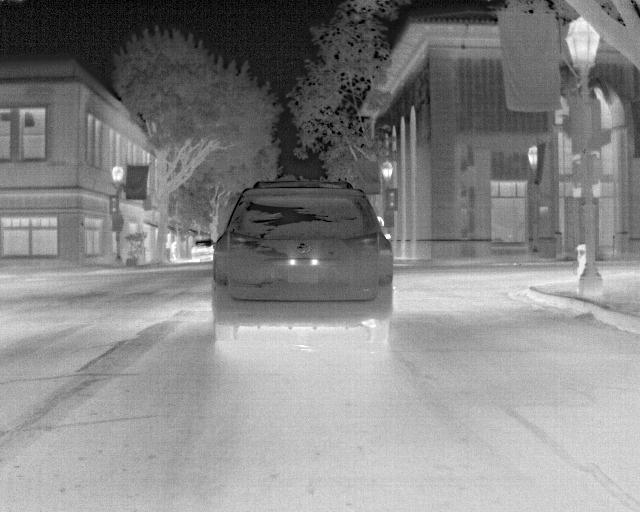car: (215, 169, 398, 358)
trafficlight: (552, 18, 626, 198), (104, 193, 133, 243), (383, 172, 408, 221)
